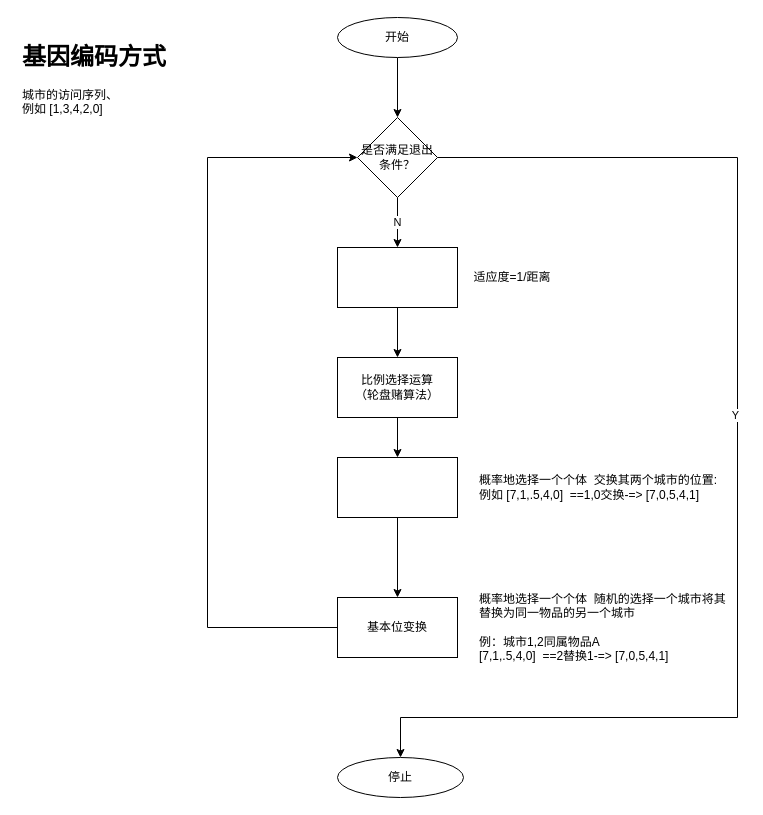
This 763x815 diagram has some shape labels left out. Each missing label, with the centre of its shape:
"交叉运算" belongs at point 397,487.
"计算种群的适应度" belongs at point 397,277.
